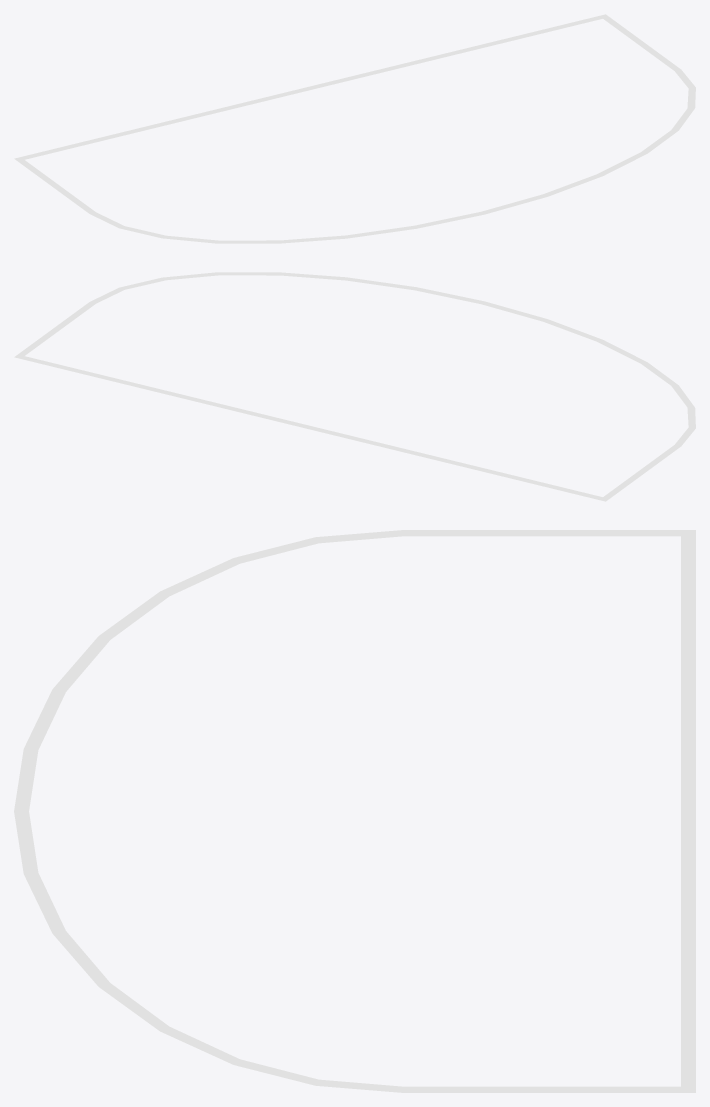
File: liseret.glb
The picture shows the model from 3 angles, top to bottom: view 1: azimuth 30°, elevation 25°; view 2: azimuth 150°, elevation 25°; view 3: azimuth 270°, elevation 25°; orthographic projection. The views are drawn at different scales.
Visible parts, largest first — view 1: liseret_0; view 2: liseret_0; view 3: liseret_0.
Boxes of the visible parts, x1,y1,x2,y2 form: liseret_0: (14, 14, 695, 243); liseret_0: (14, 272, 695, 501); liseret_0: (14, 530, 695, 1092).
Bounding box in the file's own units: 11.5 × 0 × 5.89.
1 material, 1 textured.
